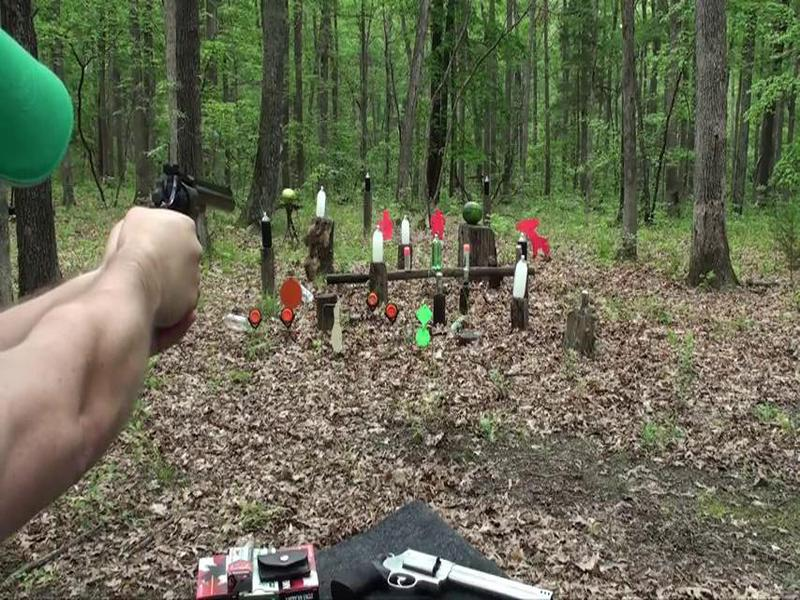Revolver: (130, 151, 249, 257)
